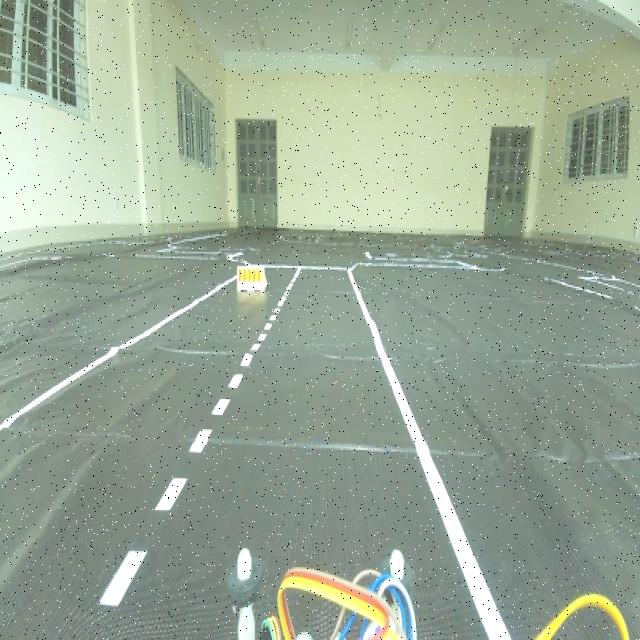roadblock: (229, 260, 271, 298)
